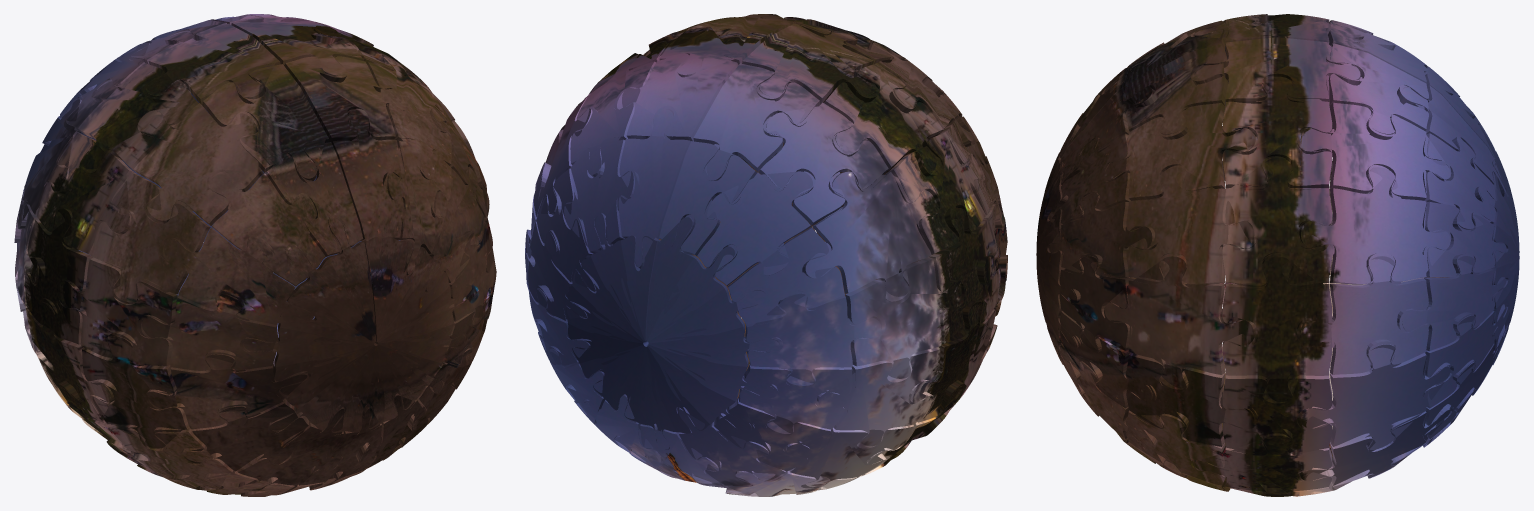
File: medium-puzzle-v6.fbx
The picture shows the model from 3 angles, left to right: view 1: azimuth 30°, elevation 25°; view 2: azimuth 150°, elevation 25°; view 3: azimuth 270°, elevation 25°; orthographic projection.
Visible parts, largest first — view 1: Puzzle-Medium.003, Puzzle-Medium.069, Puzzle-Medium.066, Puzzle-Medium.076, Puzzle-Medium.059, Puzzle-Medium.067, Puzzle-Medium.068, Puzzle-Medium.070, Puzzle-Medium.065, Puzzle-Medium.058, Puzzle-Medium.075, Puzzle-Medium.056 (+27 smaller); view 2: Puzzle-Medium.002, Puzzle-Medium.064, Puzzle-Medium.061, Puzzle-Medium.071, Puzzle-Medium.072, Puzzle-Medium.074, Puzzle-Medium.062, Puzzle-Medium.070, Puzzle-Medium.054, Puzzle-Medium.065, Puzzle-Medium.005, Puzzle-Medium.075 (+26 smaller); view 3: Puzzle-Medium.020, Puzzle-Medium.021, Puzzle-Medium.016, Puzzle-Medium.015, Puzzle-Medium.008, Puzzle-Medium.014, Puzzle-Medium.019, Puzzle-Medium.006, Puzzle-Medium.026, Puzzle-Medium.010, Puzzle-Medium.025, Puzzle-Medium.007 (+27 smaller).
Boxes of the visible parts, left/top/right/bottom form: Puzzle-Medium.003: left=243, top=218, right=469, bottom=432; Puzzle-Medium.069: left=134, top=103, right=263, bottom=225; Puzzle-Medium.066: left=91, top=172, right=210, bottom=302; Puzzle-Medium.076: left=202, top=64, right=328, bottom=180; Puzzle-Medium.059: left=60, top=257, right=177, bottom=366; Puzzle-Medium.067: left=162, top=227, right=313, bottom=324; Puzzle-Medium.068: left=211, top=172, right=325, bottom=286; Puzzle-Medium.070: left=79, top=63, right=198, bottom=173; Puzzle-Medium.065: left=36, top=132, right=134, bottom=254; Puzzle-Medium.058: left=141, top=294, right=277, bottom=370; Puzzle-Medium.075: left=146, top=23, right=280, bottom=104; Puzzle-Medium.056: left=82, top=336, right=189, bottom=448; Puzzle-Medium.002: left=565, top=216, right=779, bottom=449; Puzzle-Medium.064: left=802, top=171, right=937, bottom=301; Puzzle-Medium.061: left=845, top=257, right=961, bottom=382; Puzzle-Medium.071: left=759, top=102, right=888, bottom=225; Puzzle-Medium.072: left=697, top=171, right=812, bottom=285; Puzzle-Medium.074: left=693, top=63, right=820, bottom=175; Puzzle-Medium.062: left=745, top=293, right=881, bottom=385; Puzzle-Medium.070: left=824, top=63, right=942, bottom=172; Puzzle-Medium.054: left=817, top=347, right=940, bottom=448; Puzzle-Medium.065: left=888, top=132, right=985, bottom=254; Puzzle-Medium.005: left=617, top=55, right=738, bottom=141; Puzzle-Medium.075: left=742, top=23, right=876, bottom=104; Puzzle-Medium.020: left=1222, top=255, right=1332, bottom=403; Puzzle-Medium.021: left=1104, top=254, right=1255, bottom=389; Puzzle-Medium.016: left=1299, top=167, right=1450, bottom=284; Puzzle-Medium.015: left=1222, top=158, right=1332, bottom=286; Puzzle-Medium.008: left=1222, top=76, right=1332, bottom=188; Puzzle-Medium.014: left=1126, top=167, right=1254, bottom=284; Puzzle-Medium.019: left=1300, top=256, right=1428, bottom=374; Puzzle-Medium.006: left=1300, top=102, right=1450, bottom=200; Puzzle-Medium.026: left=1299, top=344, right=1450, bottom=449; Puzzle-Medium.010: left=1105, top=103, right=1255, bottom=200; Puzzle-Medium.025: left=1222, top=375, right=1332, bottom=453; Puzzle-Medium.007: left=1194, top=37, right=1360, bottom=101.
Size of the model in its own units: 64.51 by 64.62 by 64.61.
